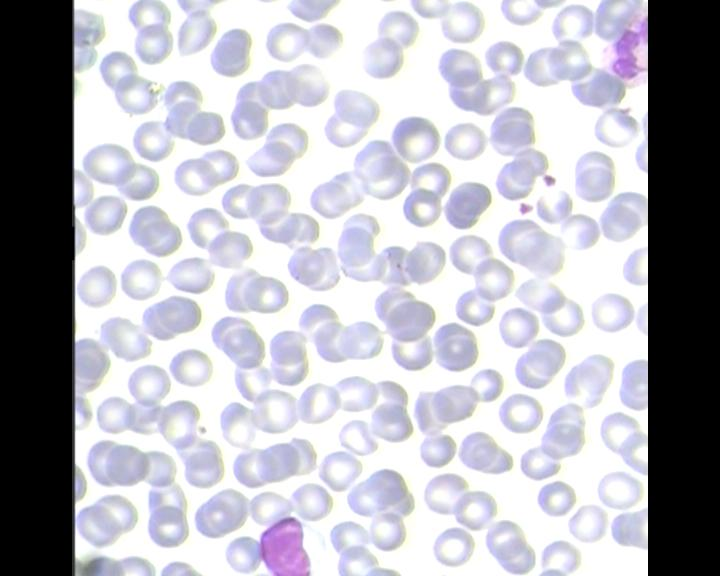lymp: (257, 513, 328, 576)
